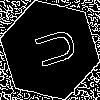U: (25, 25, 78, 73)
